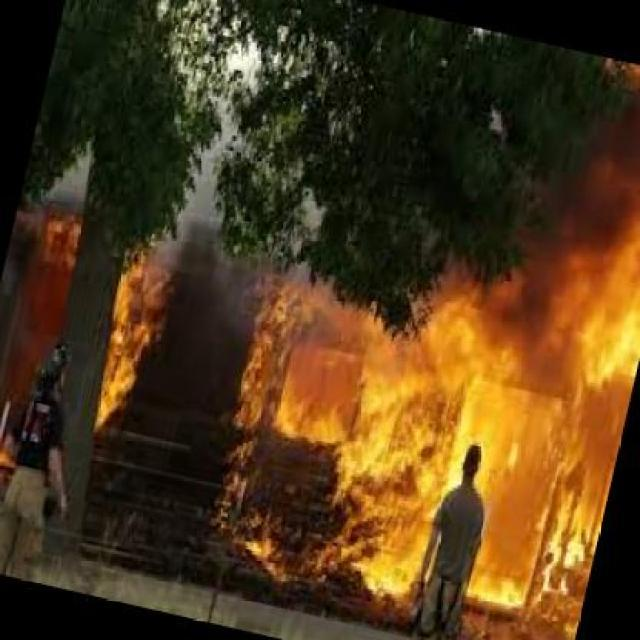Fire: (253, 290, 478, 454), (490, 276, 634, 462), (502, 469, 588, 640), (332, 455, 419, 603), (105, 262, 175, 431), (36, 207, 82, 273)
